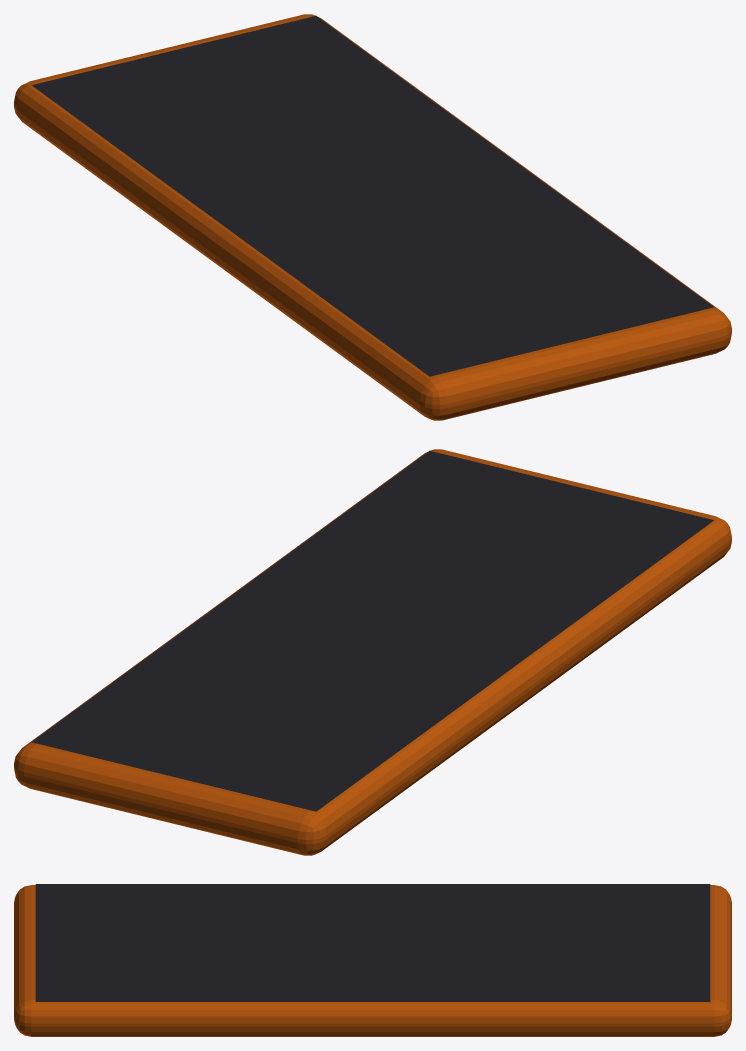
The model's file is realme-gen-2026-budget-2026.glb.
3 views of the same model, one above another, from view 1: azimuth 30°, elevation 25°; view 2: azimuth 150°, elevation 25°; view 3: azimuth 270°, elevation 25° (orthographic). The views are drawn at different scales.
Visible parts, largest first — view 1: Phone_Screen, Phone_Body; view 2: Phone_Screen, Phone_Body; view 3: Phone_Screen, Phone_Body.
Boxes of the visible parts, x1,y1,x2,y2 form: Phone_Screen: [31, 15, 714, 376]; Phone_Body: [14, 14, 731, 420]; Phone_Screen: [31, 450, 714, 811]; Phone_Body: [14, 449, 731, 855]; Phone_Screen: [35, 884, 710, 1001]; Phone_Body: [14, 885, 731, 1036].
Size of the model in its own units: 0.0701 by 0.0091 by 0.1661.
